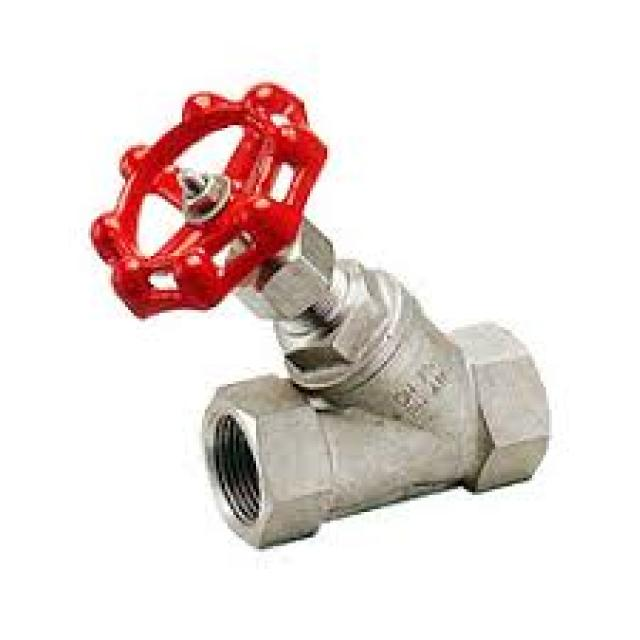Wheel Handle Valve Threaded: (64, 73, 338, 322)
